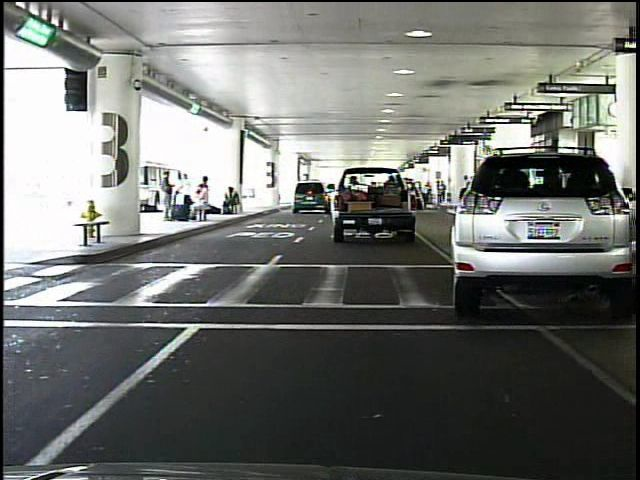person: (158, 168, 178, 221)
